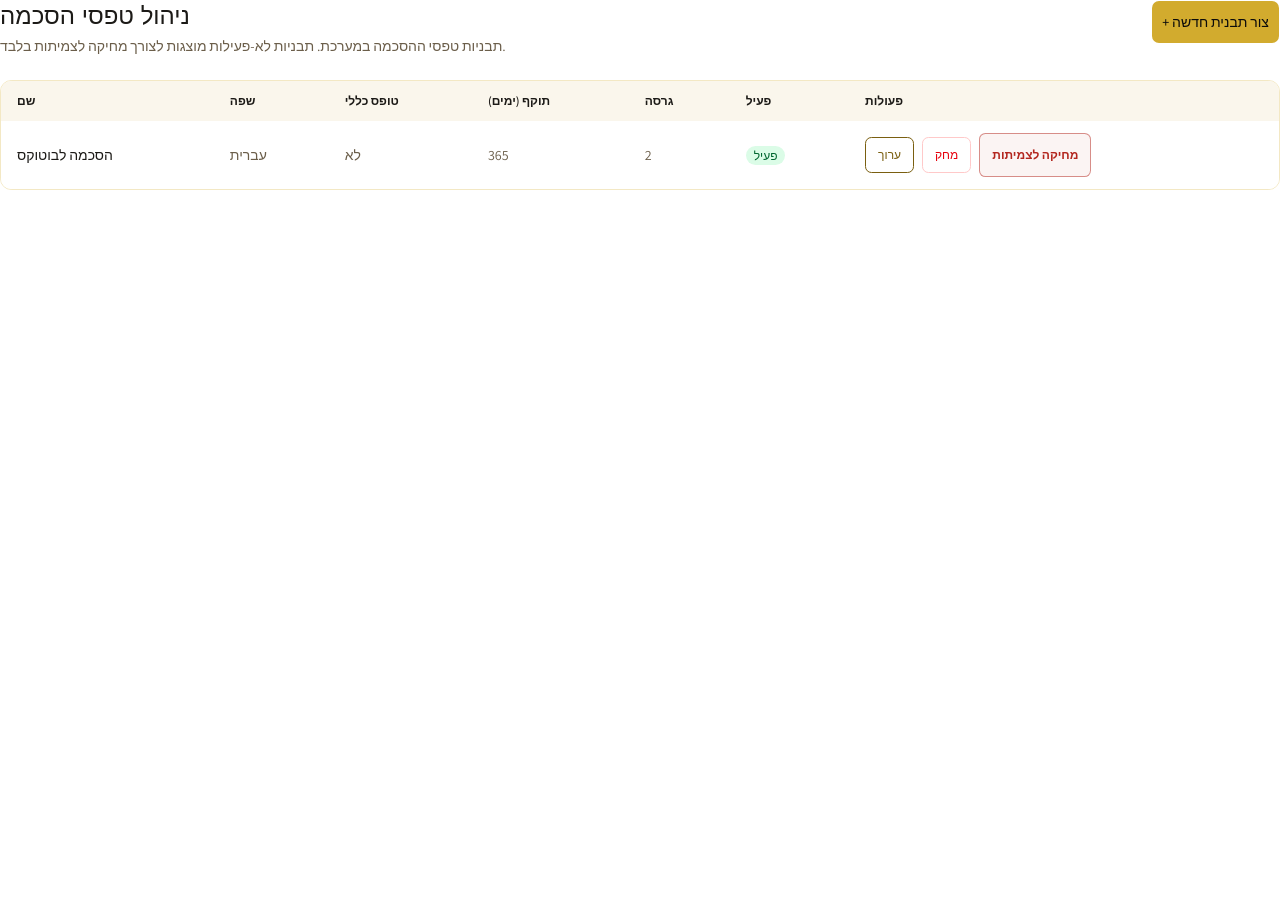
Test: ConsentTemplatesList — אישור בהקלדת שם › כפתור "מחק לצמיתות" מנוטרל עד הקלדת שם התבנית המלא
Click the button "מחיקה לצמיתות".
click(1035, 155)  # box x1=979 y1=133 x2=1092 y2=177
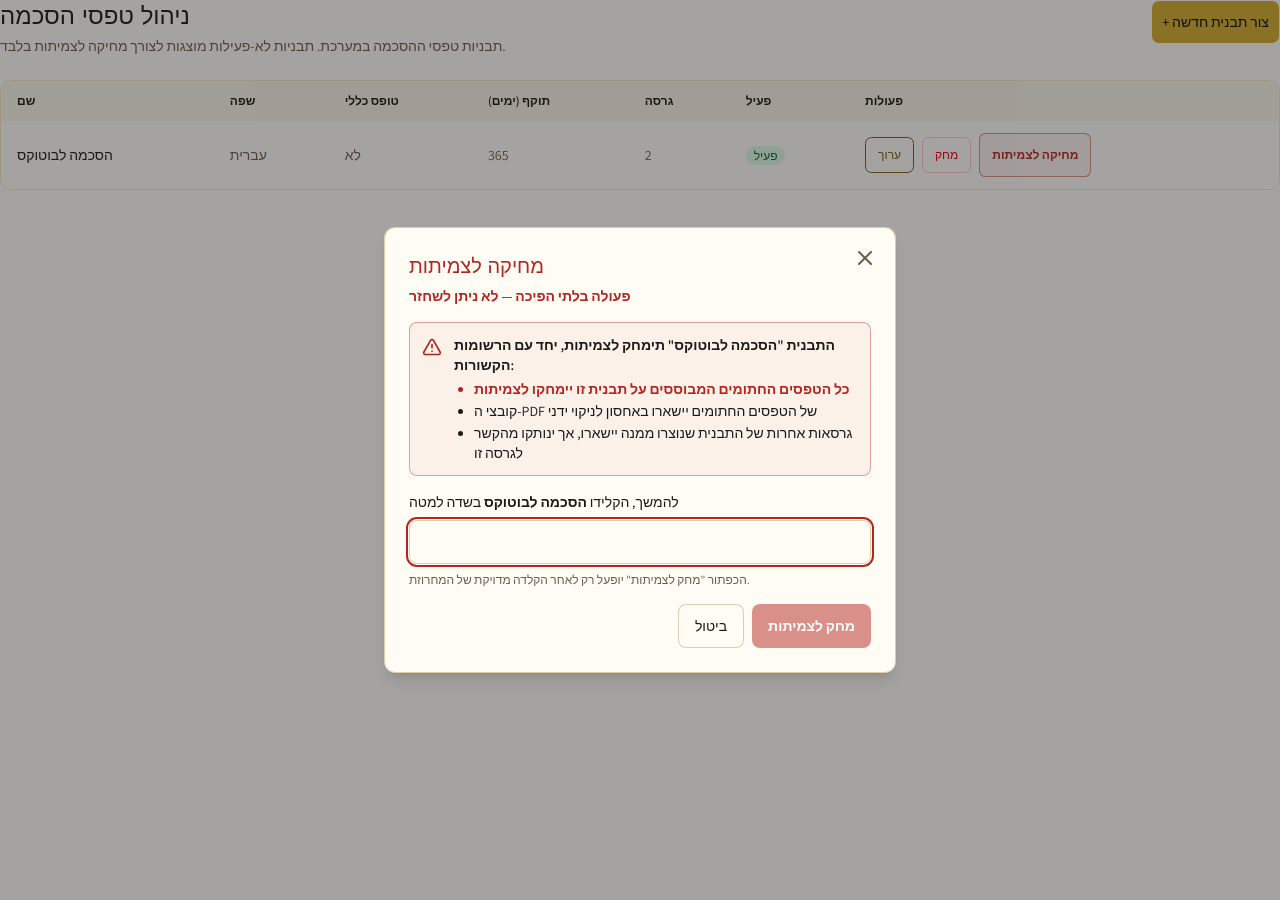
Now the button "מחק לצמיתות" is disabled, box x1=752 y1=604 x2=871 y2=648
Type "הסכמה" into the field.
click(640, 542); type("הסכמה")  # box x1=409 y1=520 x2=871 y2=564
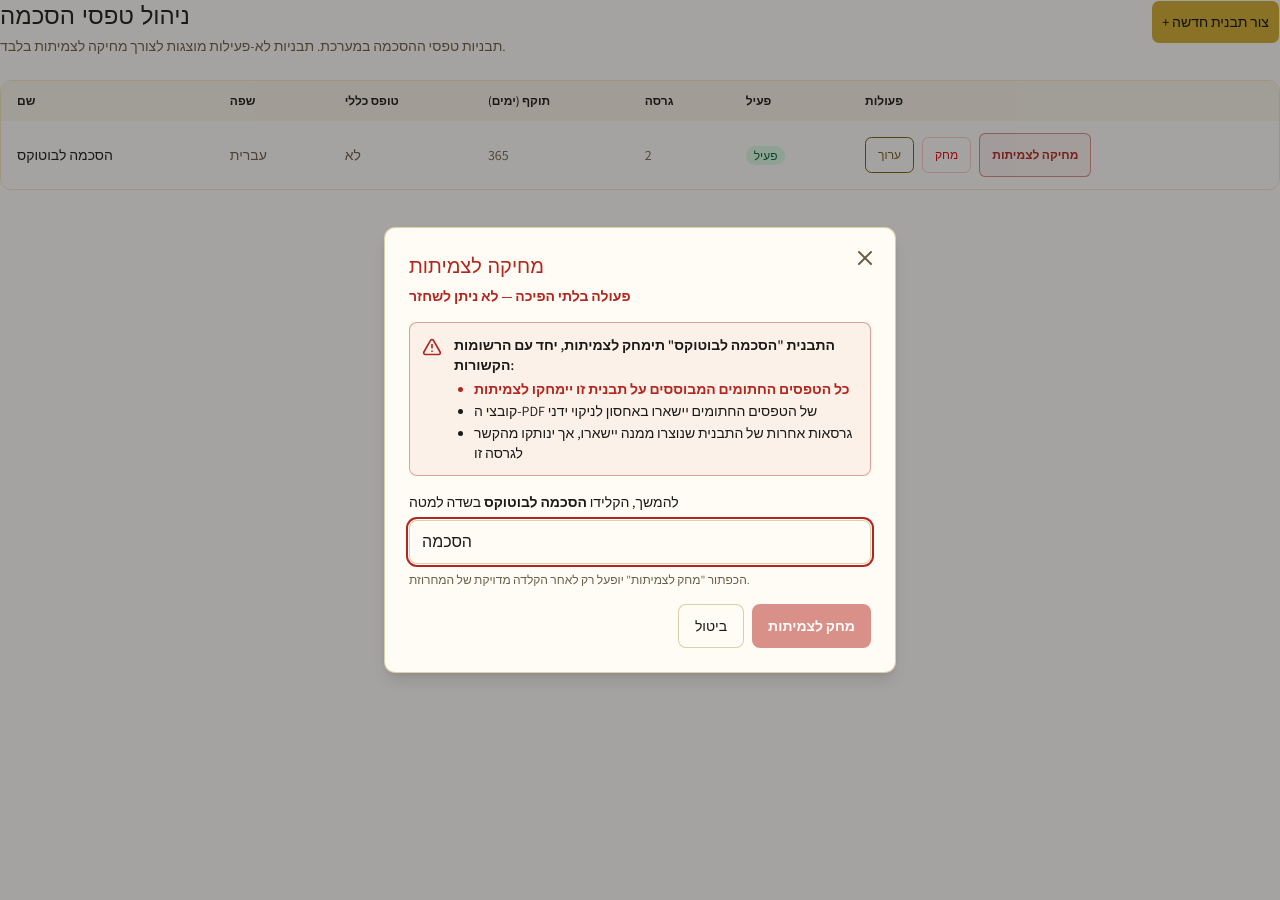
Now the button "מחק לצמיתות" is disabled, box x1=752 y1=604 x2=871 y2=648
Replace the text in the field with "הסכמה לבוטוקס" at (640, 542), box x1=409 y1=520 x2=871 y2=564
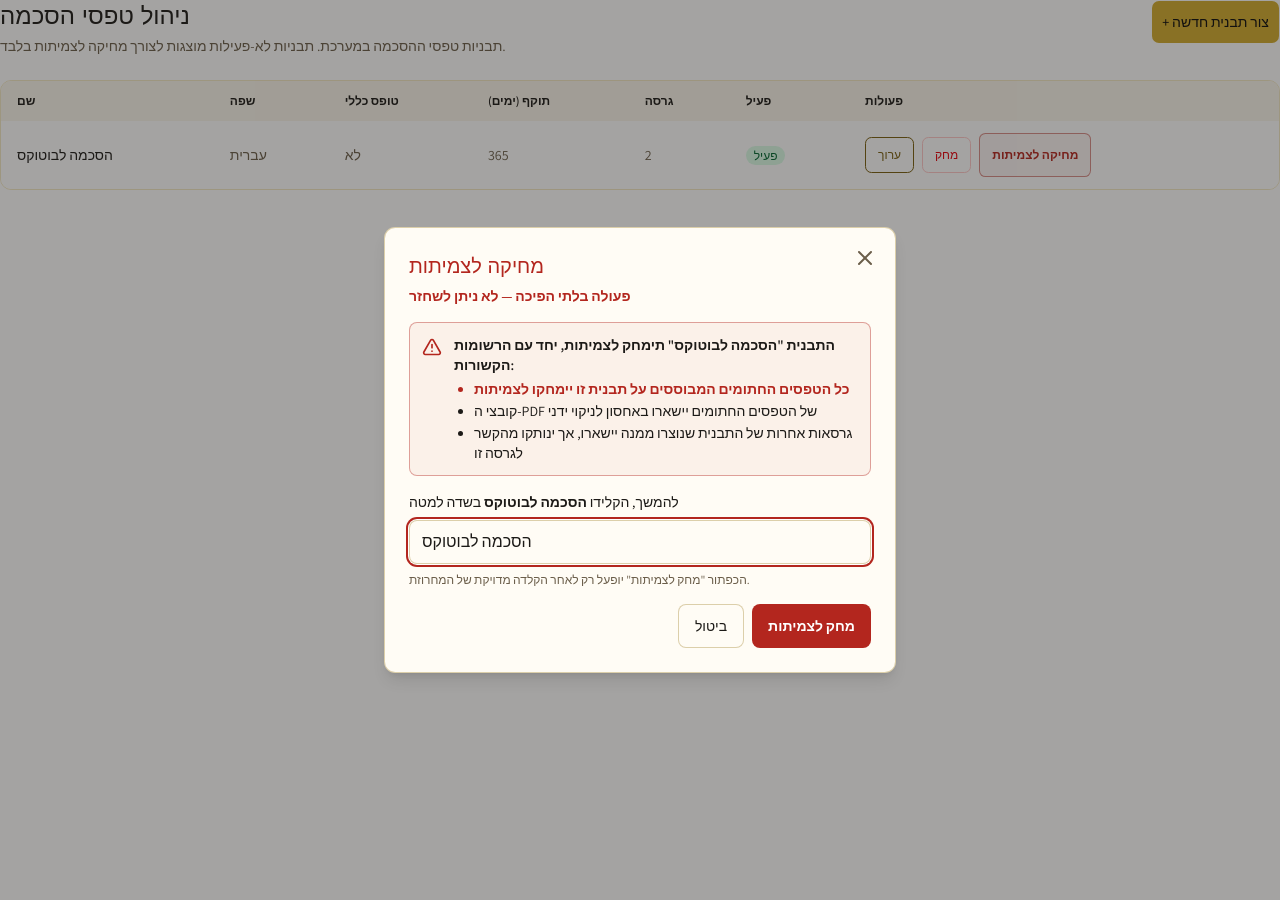
Now the button "מחק לצמיתות" is enabled, box x1=752 y1=604 x2=871 y2=648
